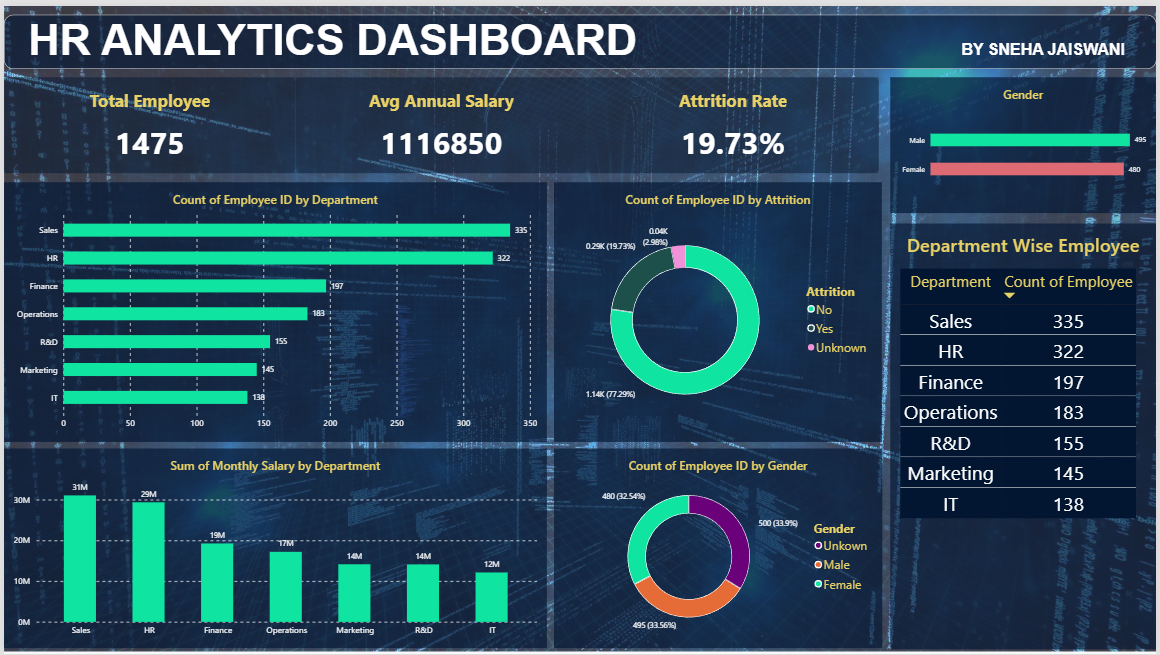

The page's visual inventory and layout, read from the dashboard file:
{"tool":"powerbi","page":{"name":"Page 1","canvas":[1920,1080],"ordinal":0},"visuals":[{"type":"textbox","box":[0,14.4,1920.4,90.6],"z":0},{"type":"cardVisual","fields":{"Data":["cleaned_HR_employee_dataset.Total Employee","cleaned_HR_employee_dataset.Average Salary","cleaned_HR_employee_dataset.Attrition Rate"]},"box":[0,119.5,1460.9,160.7],"z":1000},{"type":"clusteredBarChart","title":"Count of Employee ID by Department","fields":{"Category":["cleaned_HR_employee_dataset.Department"],"Y":["CountNonNull(cleaned_HR_employee_dataset.Employee ID)"]},"box":[0,293.2,904.8,432.5],"z":3000},{"type":"clusteredColumnChart","fields":{"Category":["cleaned_HR_employee_dataset.Department"],"Y":["Sum(cleaned_HR_employee_dataset.Monthly Salary)"]},"box":[0,738.3,904.8,333],"z":4000},{"type":"donutChart","fields":{"Category":["cleaned_HR_employee_dataset.Attrition"],"Y":["Count(cleaned_HR_employee_dataset.Employee ID)"]},"box":[915.7,293.2,546.5,432.5],"z":5000},{"type":"donutChart","fields":{"Category":["cleaned_HR_employee_dataset.Gender"],"Y":["CountNonNull(cleaned_HR_employee_dataset.Employee ID)"]},"box":[916,738,547,333],"z":6000},{"type":"tableEx","title":"Department Wise Employee","fields":{"Values":["cleaned_HR_employee_dataset.Department","cleaned_HR_employee_dataset.Employee ID"]},"box":[1476.7,361.9,443.4,709.4],"z":7000},{"type":"clusteredBarChart","title":"Gender","fields":{"Category":["cleaned_HR_employee_dataset.Gender"],"Y":["CountNonNull(cleaned_HR_employee_dataset.Employee ID)"]},"box":[1476.7,119.4,443.4,226.2],"z":7001}]}

Visuals, with their boxes in screenshot pixels (x1, y1, x2, y2), scaled from the page's 1920x1080 canvas onto the 1160x655 screenshot:
textbox: Rect(0, 9, 1159, 64)
cardVisual - cleaned_HR_employee_dataset.Total Employee x cleaned_HR_employee_dataset.Average Salary: Rect(0, 72, 883, 170)
"Count of Employee ID by Department" clusteredBarChart: Rect(0, 178, 547, 440)
clusteredColumnChart - cleaned_HR_employee_dataset.Department x Sum(cleaned_HR_employee_dataset.Monthly Salary): Rect(0, 448, 547, 650)
donutChart - cleaned_HR_employee_dataset.Attrition x Count(cleaned_HR_employee_dataset.Employee ID): Rect(553, 178, 883, 440)
donutChart - cleaned_HR_employee_dataset.Gender x CountNonNull(cleaned_HR_employee_dataset.Employee ID): Rect(553, 448, 884, 650)
"Department Wise Employee" tableEx: Rect(892, 219, 1159, 650)
"Gender" clusteredBarChart: Rect(892, 72, 1159, 210)
